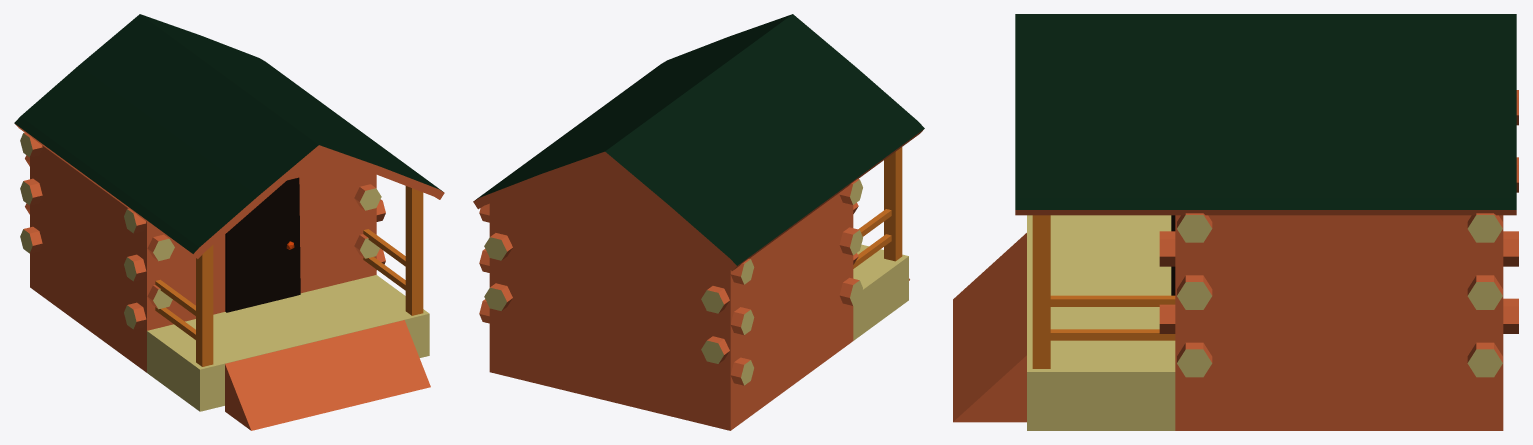
File: aqua_house.obj
The picture shows the model from 3 angles, left to right: view 1: azimuth 30°, elevation 25°; view 2: azimuth 150°, elevation 25°; view 3: azimuth 270°, elevation 25°; orthographic projection. The views are drawn at different scales.
Visible parts, largest first — view 1: aqua_house; view 2: aqua_house; view 3: aqua_house.
Boxes of the visible parts, box(x1,y1,x2,y2) form: aqua_house: box(14, 14, 444, 430); aqua_house: box(473, 14, 924, 430); aqua_house: box(953, 14, 1518, 430).
Size of the model in its own units: 10.96 by 10.31 by 15.25.
